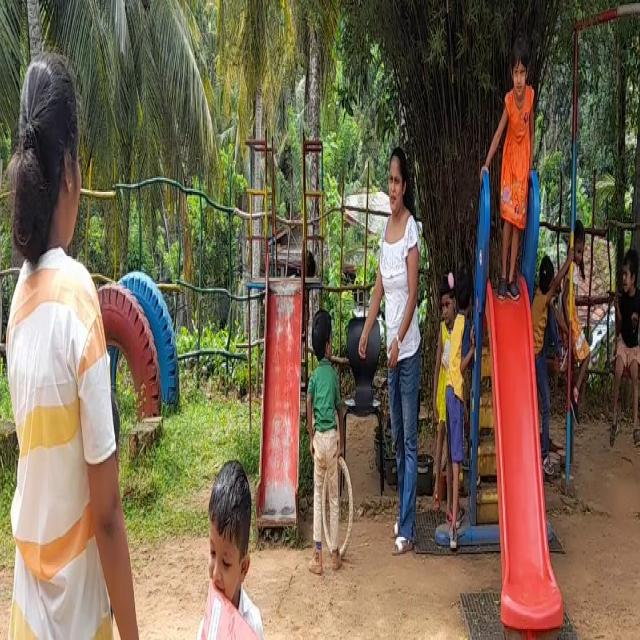adult: (0, 43, 157, 640), (367, 134, 428, 542)
child: (190, 459, 271, 640), (302, 307, 344, 558), (491, 35, 532, 288), (441, 286, 478, 555), (611, 230, 640, 463)
